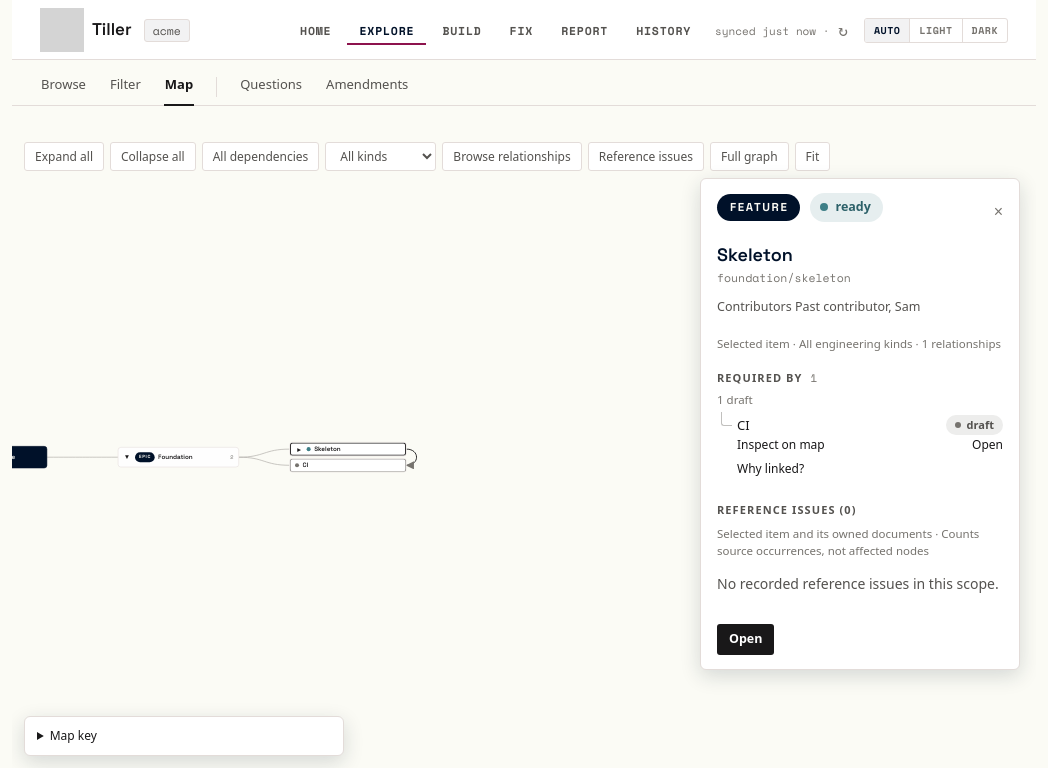
Test: Explore: the map mode › shows contributors for an ancestor and only scalar ownership for shelf execution
Expected: the heading "Skeleton" is shown, [717,242,793,266]
Expected: the element named "Selected node" shows "Contributors", [717,298,795,315]
Click the button "Expand all": click(64, 156) [24,142,104,171]
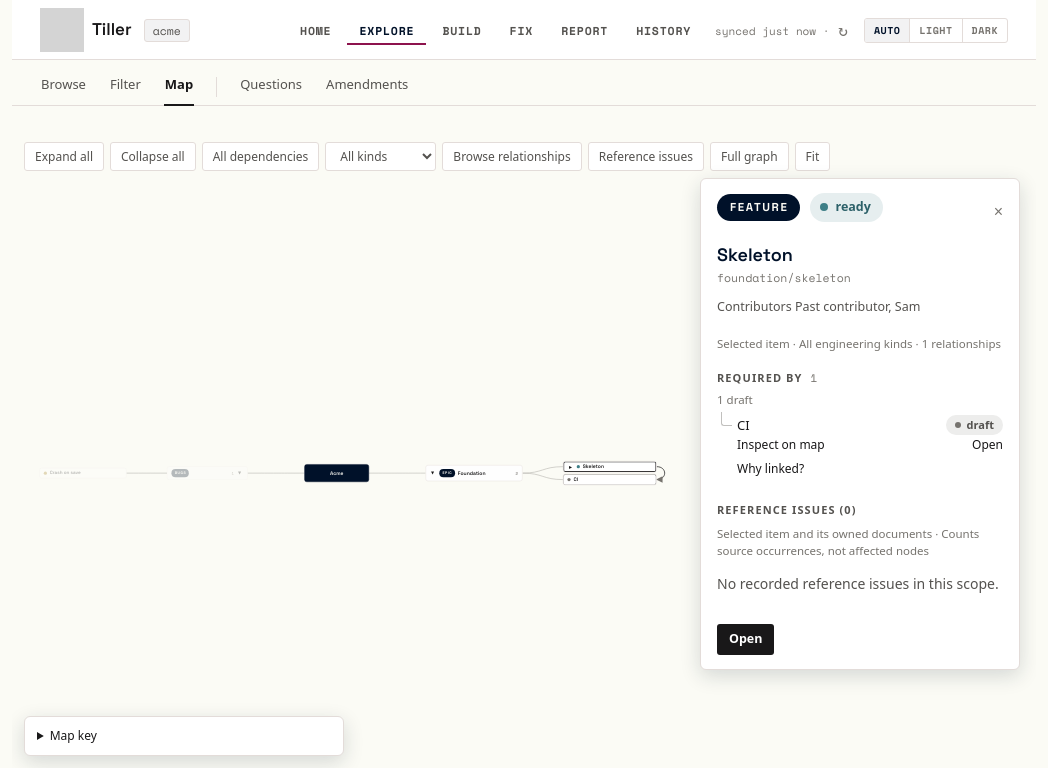
Click the button "Crash on save": click(83, 473) [44,468,122,478]
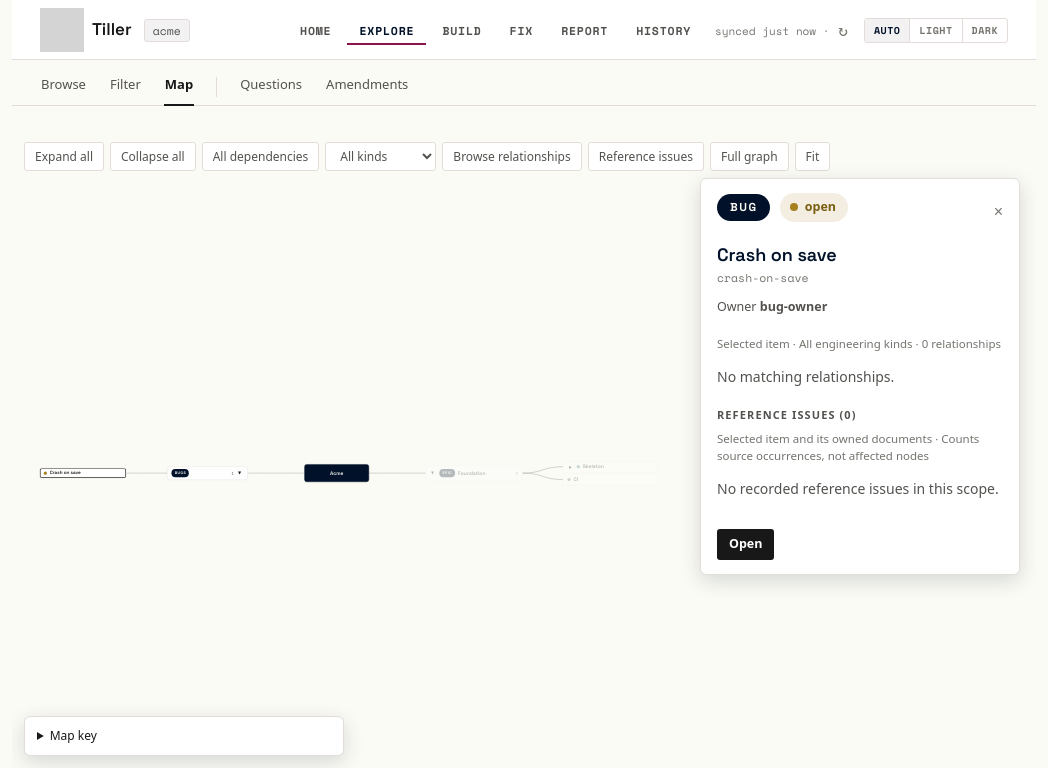
Now the heading "Crash on save" is shown, box [717,242,837,266]
Now the element named "Selected node" shows "Owner", box [717,298,760,315]
Now the text "bug-owner" is shown, box [760,298,827,315]
